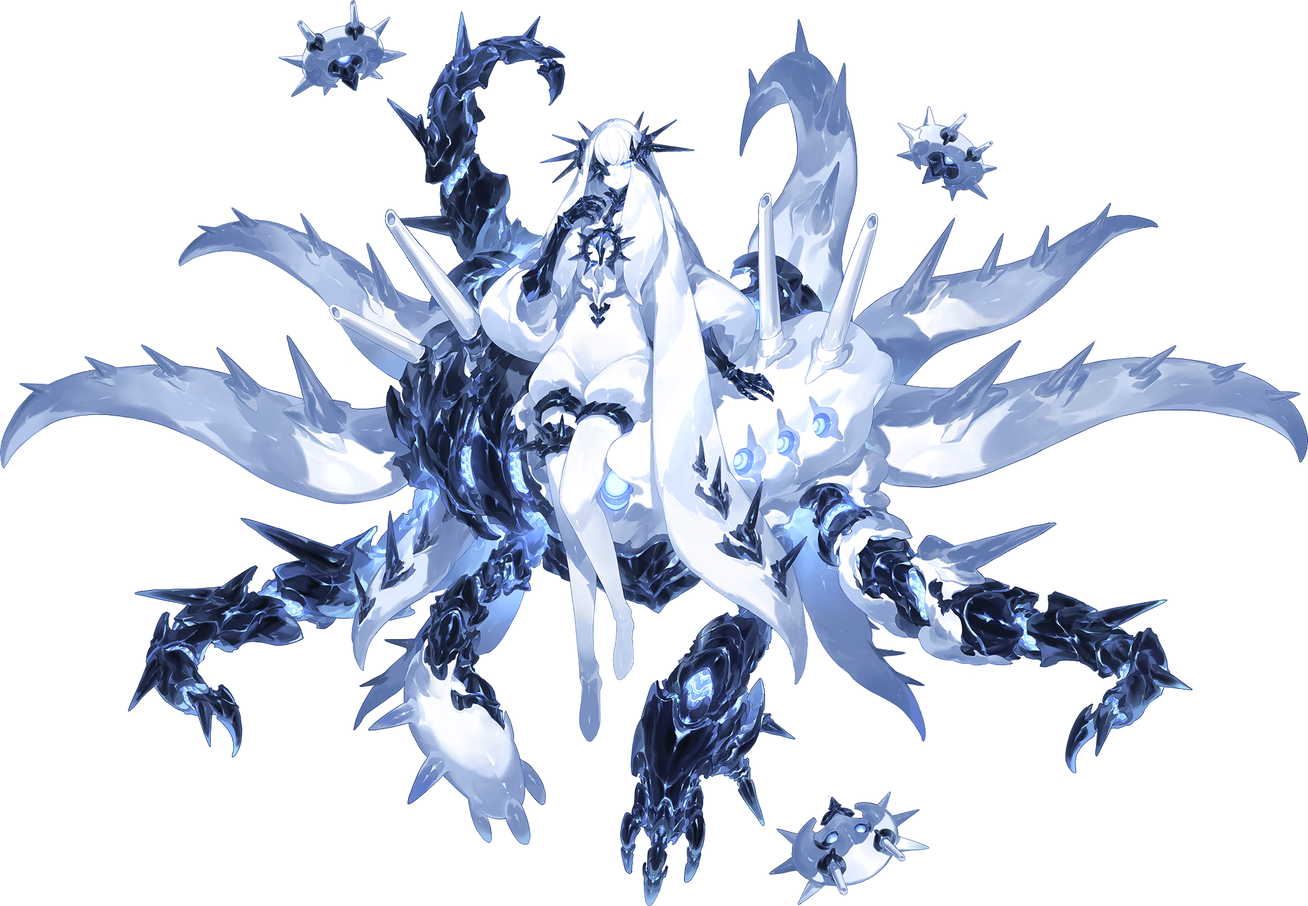person: (499, 85, 759, 833)
